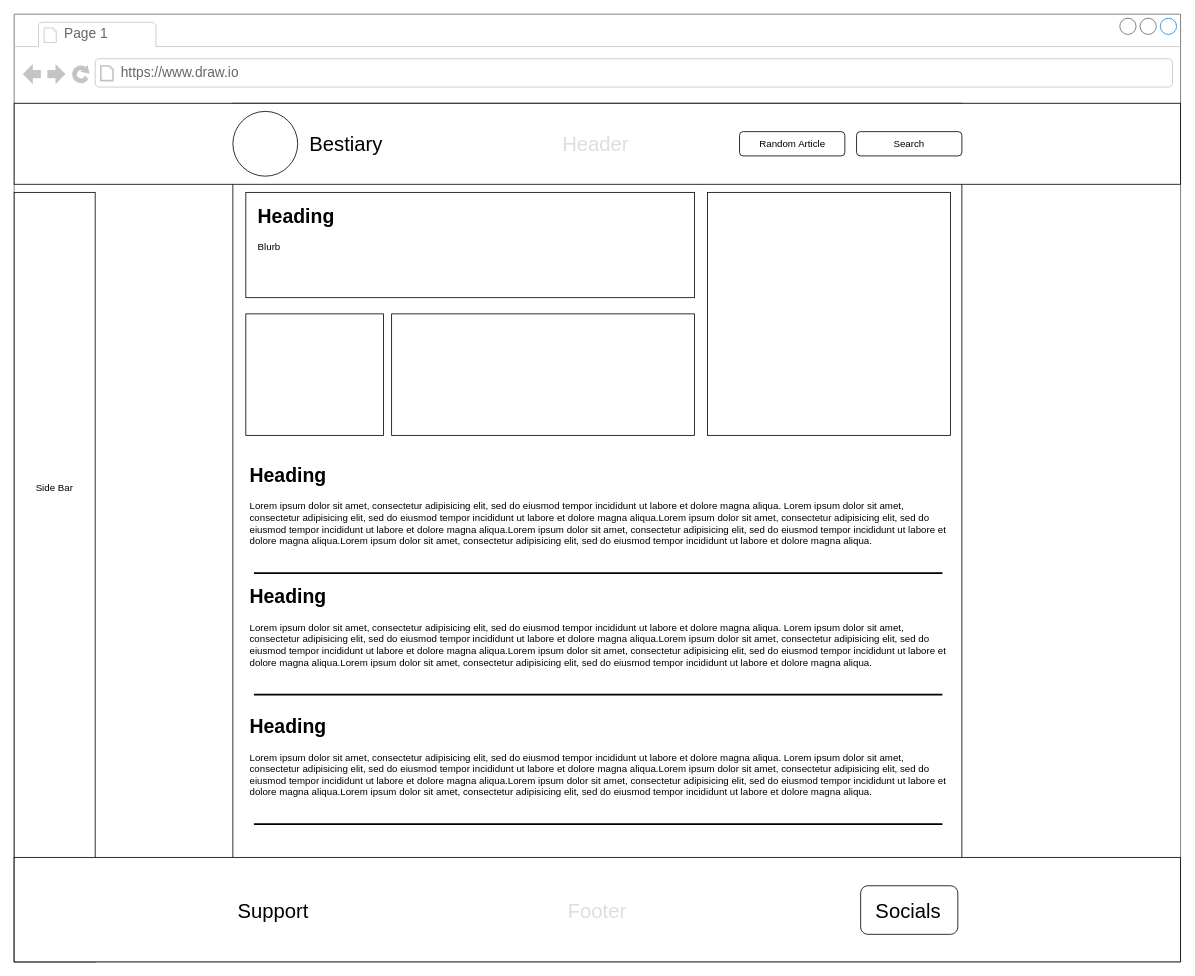
This 1195x976 diagram has some shape labels left out. The box of each missing label's shape, as (x1, y1, x2, y2) in pixels:
Contents: (245, 313, 384, 435)
Image: (707, 192, 951, 435)
Logo: (232, 111, 298, 176)
Quick Facts: (391, 313, 695, 435)
